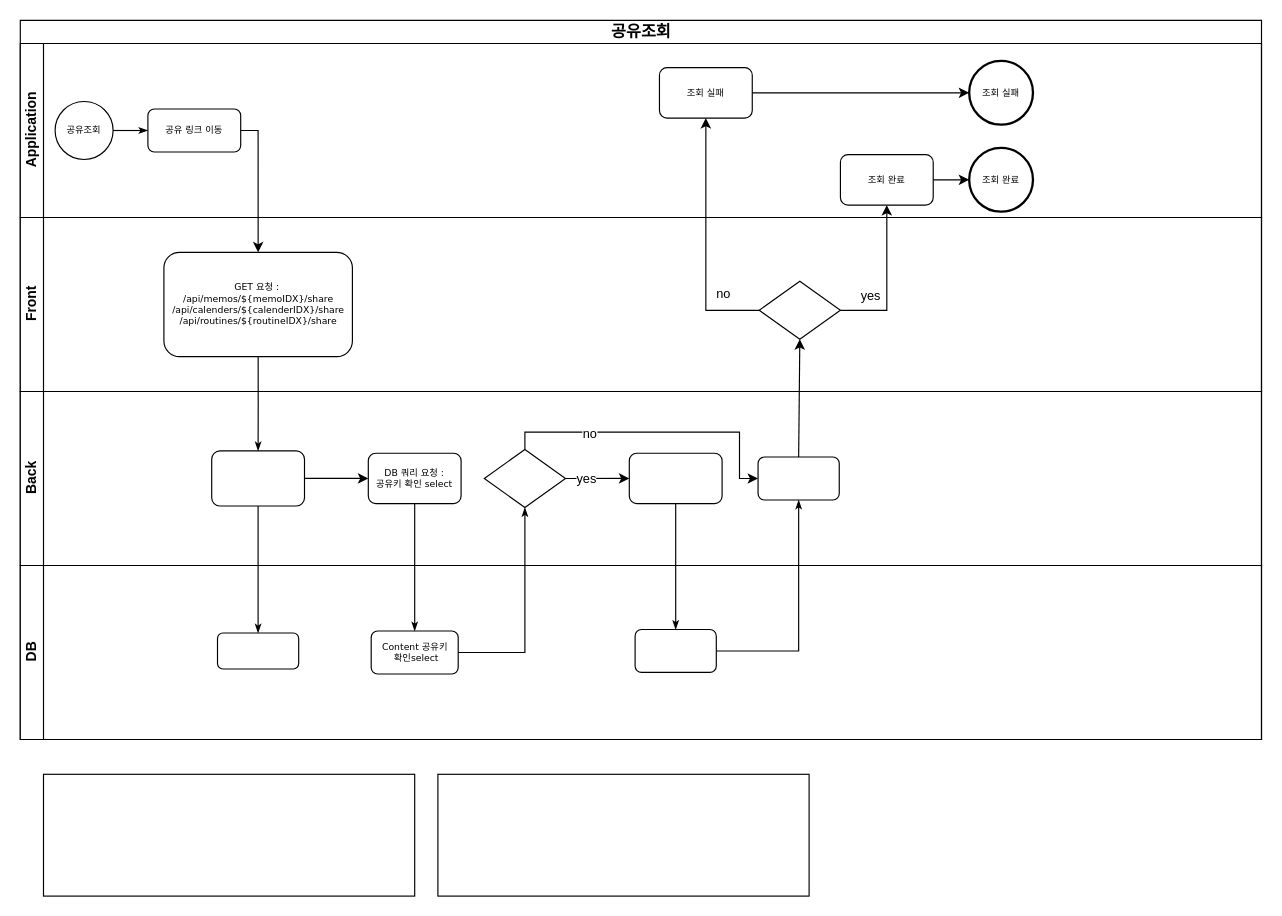
This 1282x916 diagram has some shape labels left out. The centre of each missing label's shape, as x and y in pixels:
"DB 쿼리 요청 : 조회 요청" goes at pixel 675 478.
"Return selete 결과" goes at pixel 798 478.
"selete 결과" goes at pixel 799 309.
"~~~_LOG 저장" goes at pixel 257 650.
"~~~Controller -> ~~~Handler" goes at pixel 257 478.
"데이터 selete" goes at pixel 675 650.
"키 확인 결과" goes at pixel 524 477.
